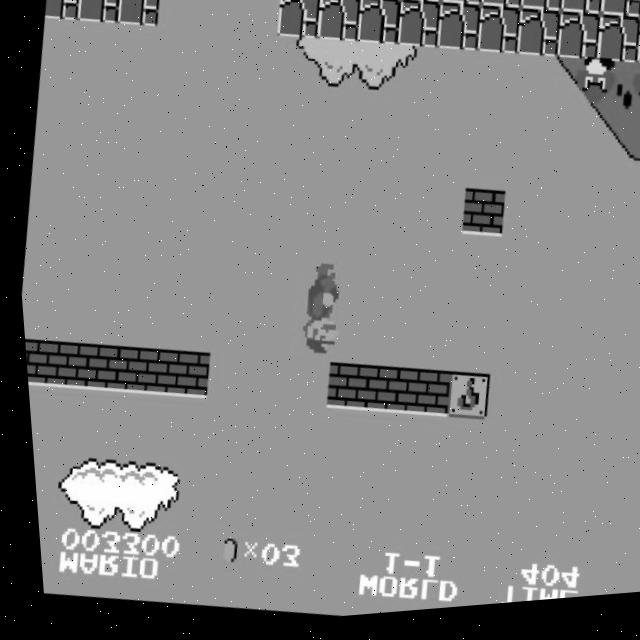0- big_mario: (284, 264, 347, 368)
1- brick_block: (454, 193, 505, 248), (37, 339, 88, 393), (77, 343, 128, 397), (117, 346, 168, 400), (157, 350, 208, 404), (317, 365, 368, 419), (356, 369, 407, 423), (396, 373, 447, 427), (20, 336, 48, 388)
13- mystery_block: (436, 376, 487, 430)
17- undestructible_block: (393, 3, 444, 58), (433, 7, 484, 62), (473, 10, 524, 65), (512, 14, 563, 69), (552, 18, 603, 73), (353, 0, 404, 54), (592, 22, 640, 77), (313, 0, 364, 51), (273, 0, 324, 47), (114, 0, 164, 32), (74, 0, 124, 28), (598, 0, 640, 31), (558, 0, 604, 27), (518, 0, 564, 24), (43, 0, 84, 24), (478, 0, 524, 20), (438, 0, 484, 16), (399, 0, 444, 12), (632, 27, 640, 80), (359, 0, 404, 9), (319, 0, 364, 5), (279, 0, 324, 1)
8- goomba: (565, 62, 619, 121), (622, 69, 640, 126)
